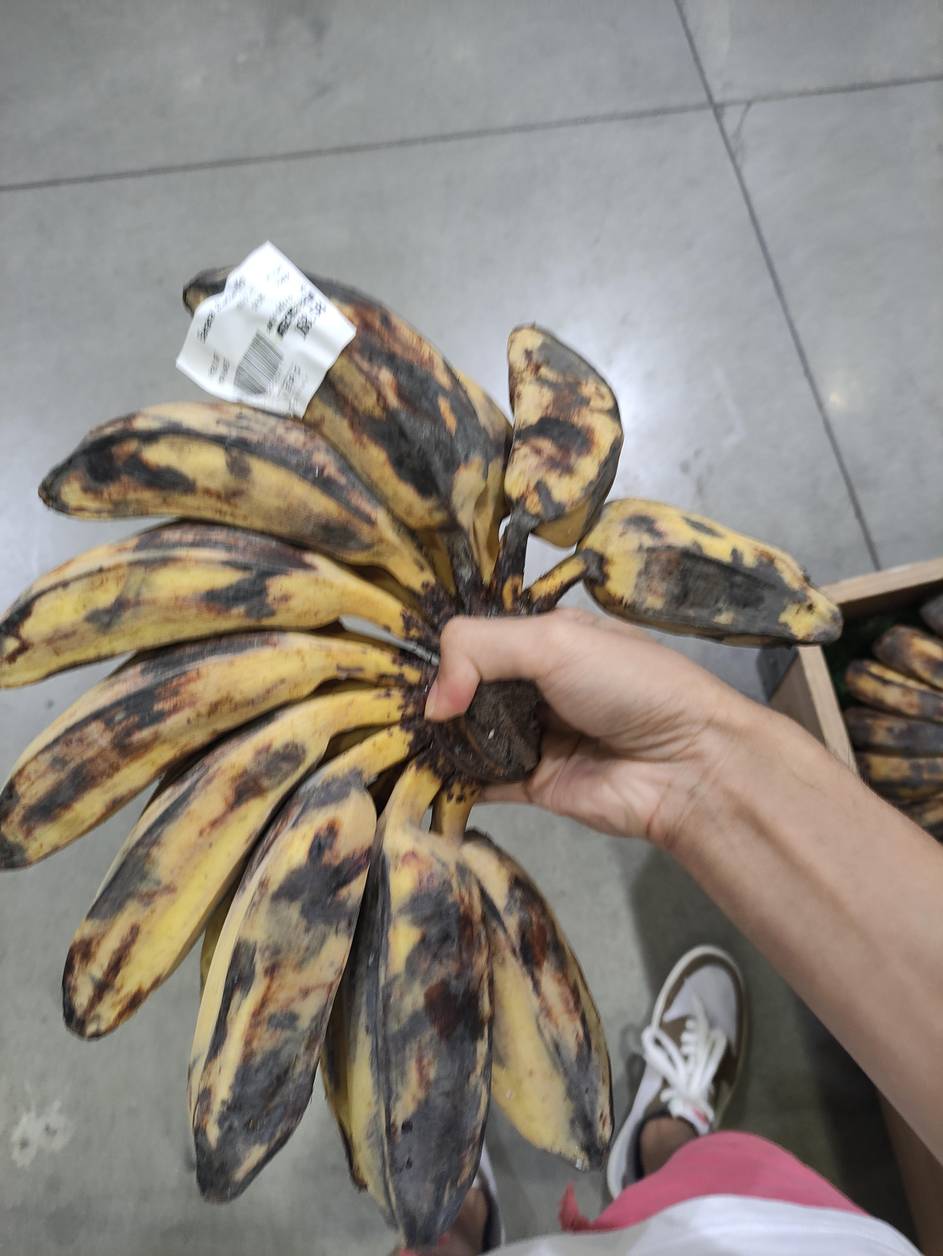ripe: (0, 246, 841, 1248)
